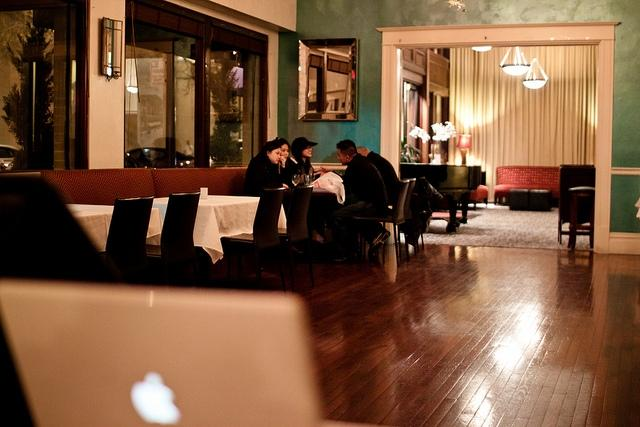apple: (130, 371, 180, 424)
